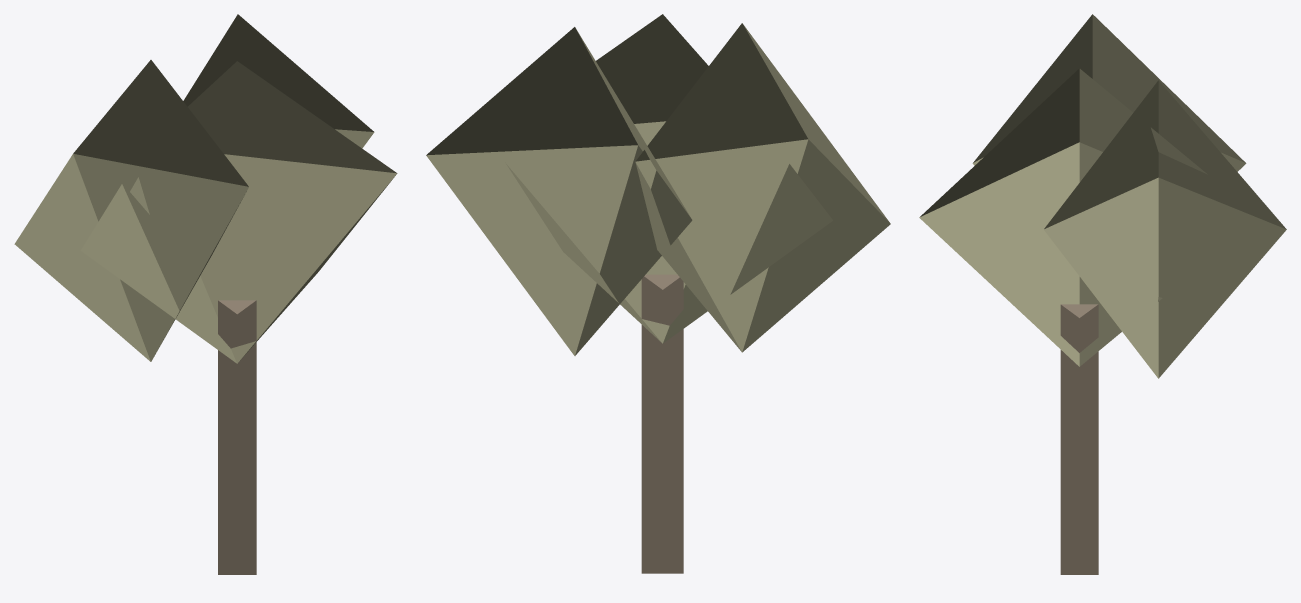
Rendered from sprout.temp.sapling__winter.glb.
3 renders of one model, left to right at view 1: azimuth 30°, elevation 25°; view 2: azimuth 150°, elevation 25°; view 3: azimuth 270°, elevation 25°, orthographic. The views are drawn at different scales.
Visible parts, largest first — view 1: sprout.temp.sapling__winter; view 2: sprout.temp.sapling__winter; view 3: sprout.temp.sapling__winter.
Part boxes in pixels (x1=…): sprout.temp.sapling__winter: x1=14, y1=14, x2=397, y2=574; sprout.temp.sapling__winter: x1=426, y1=14, x2=890, y2=573; sprout.temp.sapling__winter: x1=919, y1=14, x2=1286, y2=574.
Size of the model in its own units: 0.93 by 1.21 by 0.7632.
